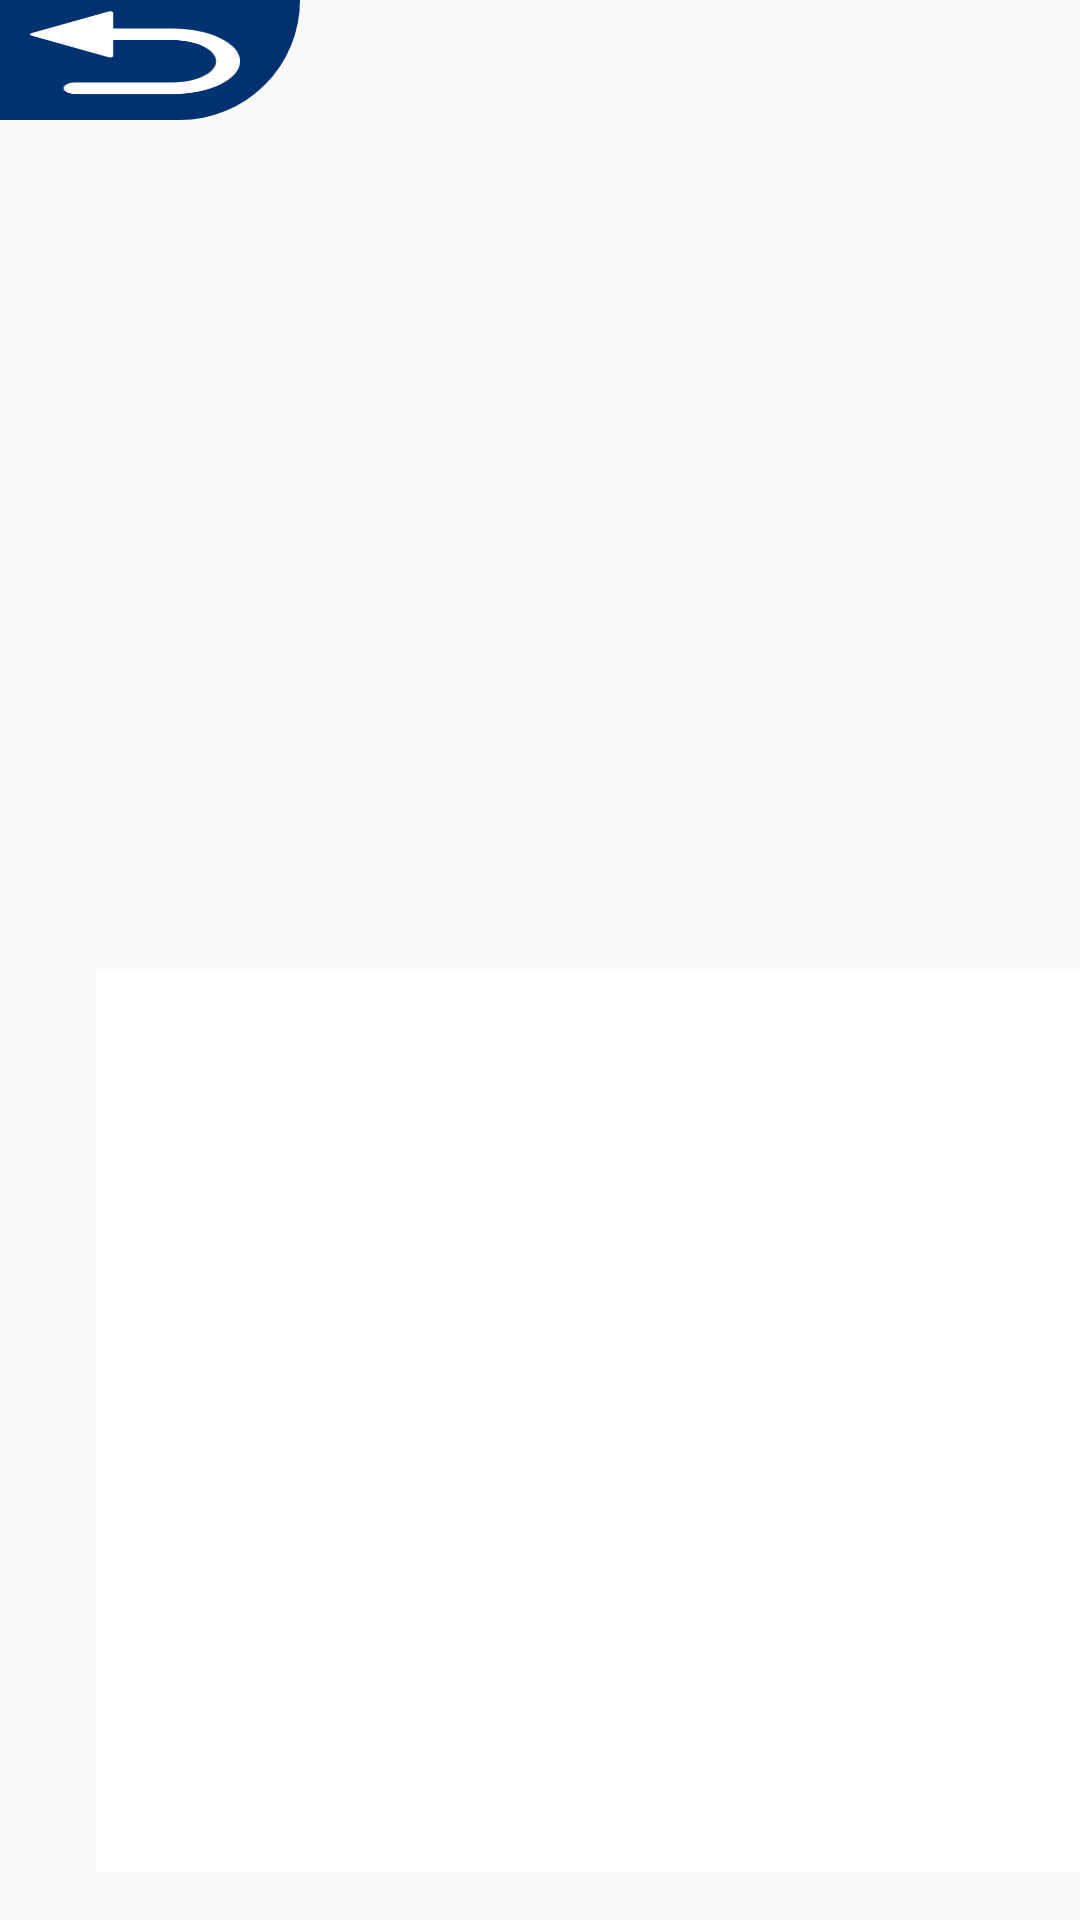

Named icons in this screenshot (1080×1920) and their bounding boxes, (left=x1, top=y1, right=x2, bottom=y2):
back: (left=0, top=0, right=300, bottom=120)
